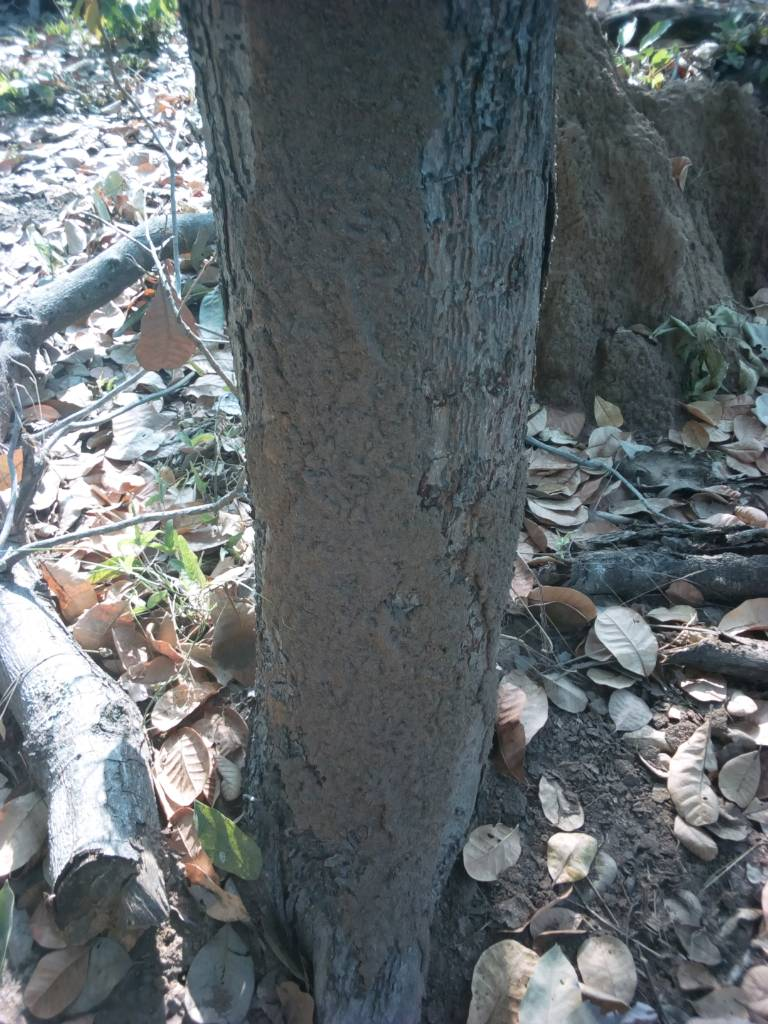Termites: (244, 3, 474, 925)
